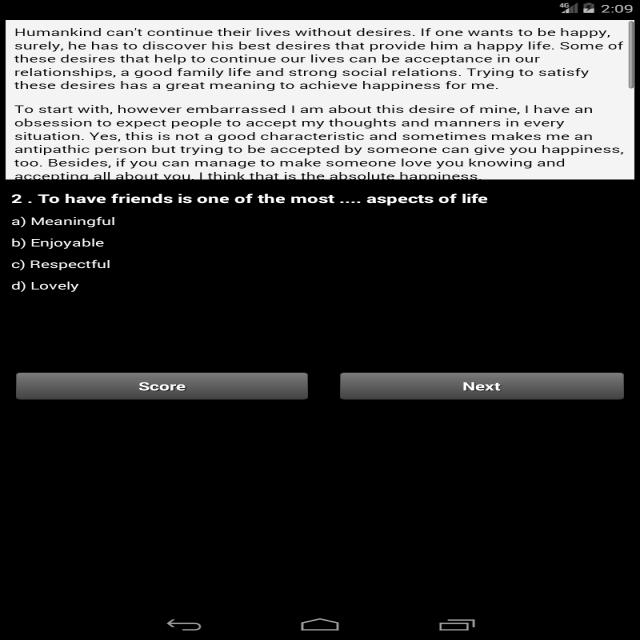Button: (329, 364, 627, 411), (9, 366, 318, 408)
TextView: (11, 100, 628, 178), (8, 22, 620, 90), (8, 190, 492, 212)
